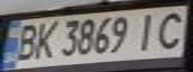3: (57, 16, 81, 57)
6: (93, 15, 115, 55)
8: (78, 16, 96, 56)
9: (106, 12, 136, 54)
B: (9, 20, 42, 62)
C: (148, 8, 193, 51)
I: (130, 10, 166, 52)
K: (30, 18, 60, 61)
